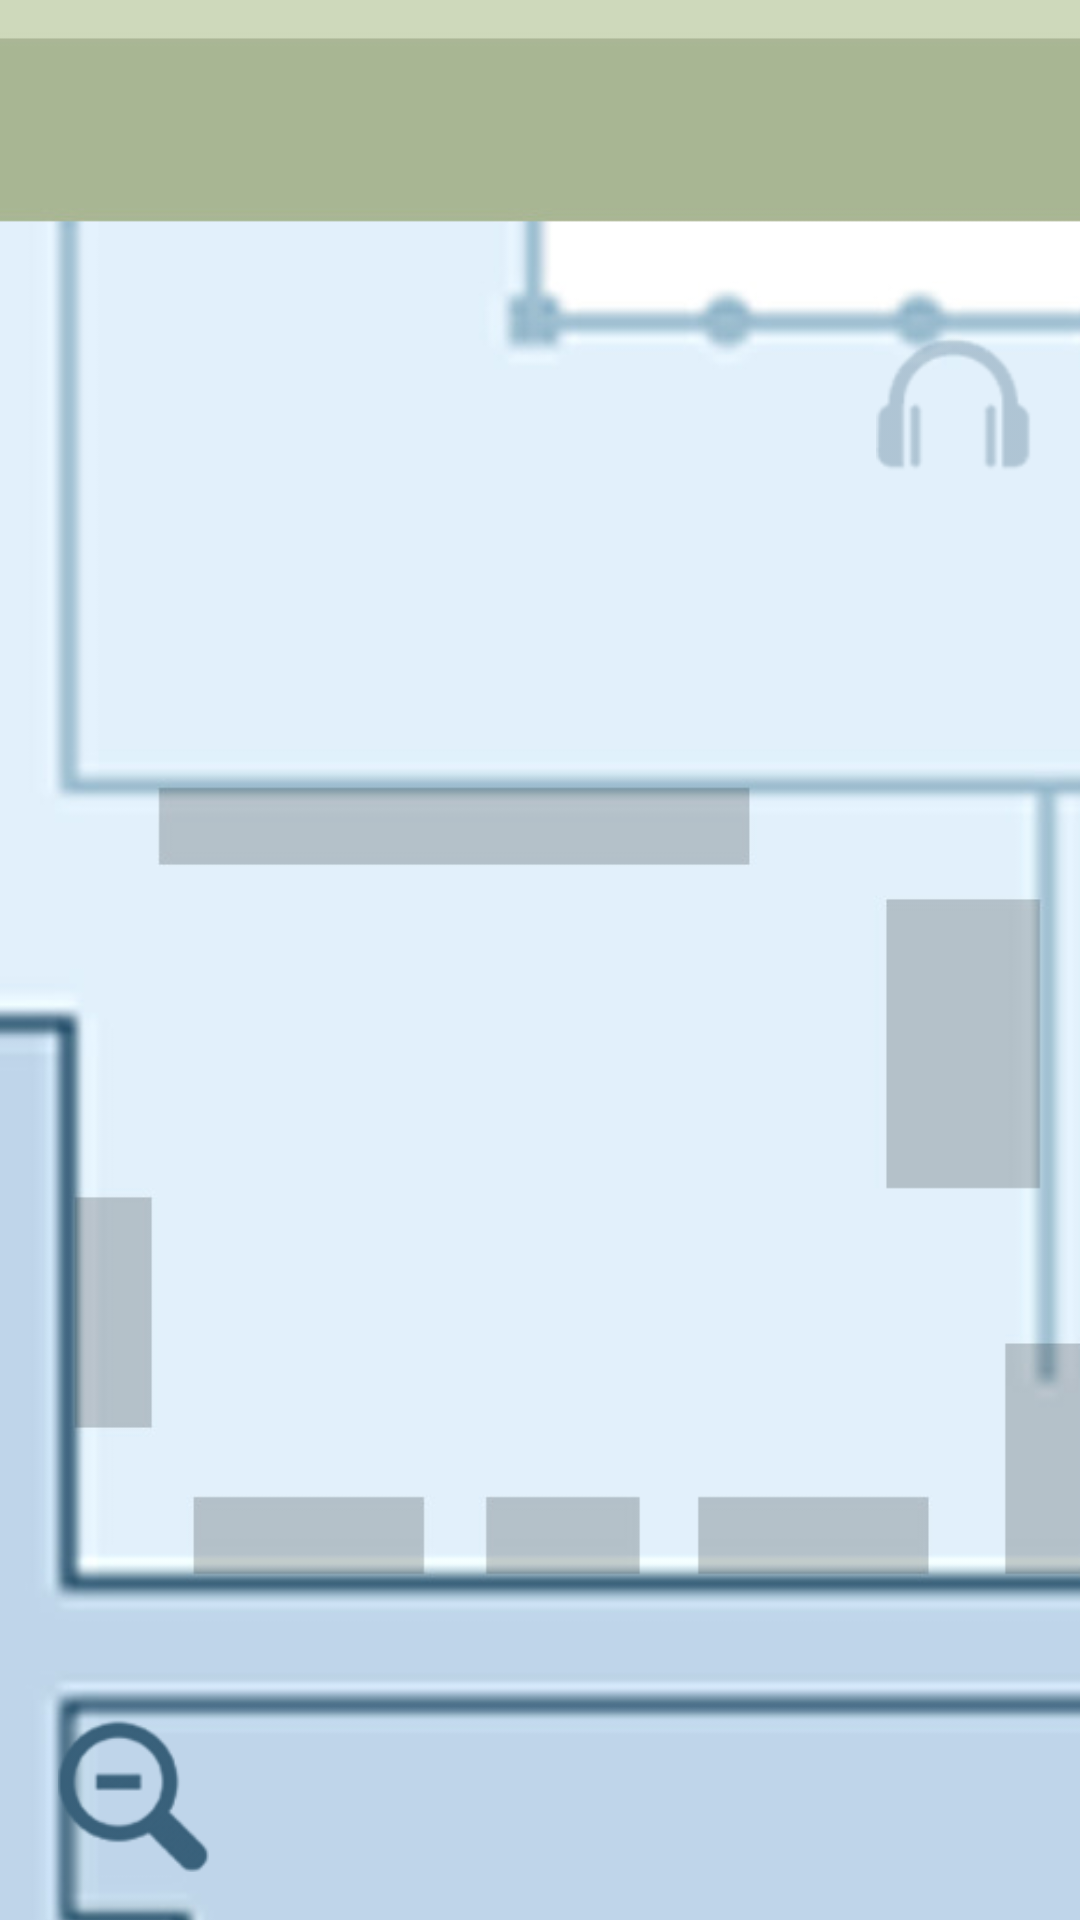

Where to tap for icons on this 1080px×1920px app screen, as point (x, y):
Podcast Inactive: point (953, 401)
Zoom Out: point (132, 1795)
